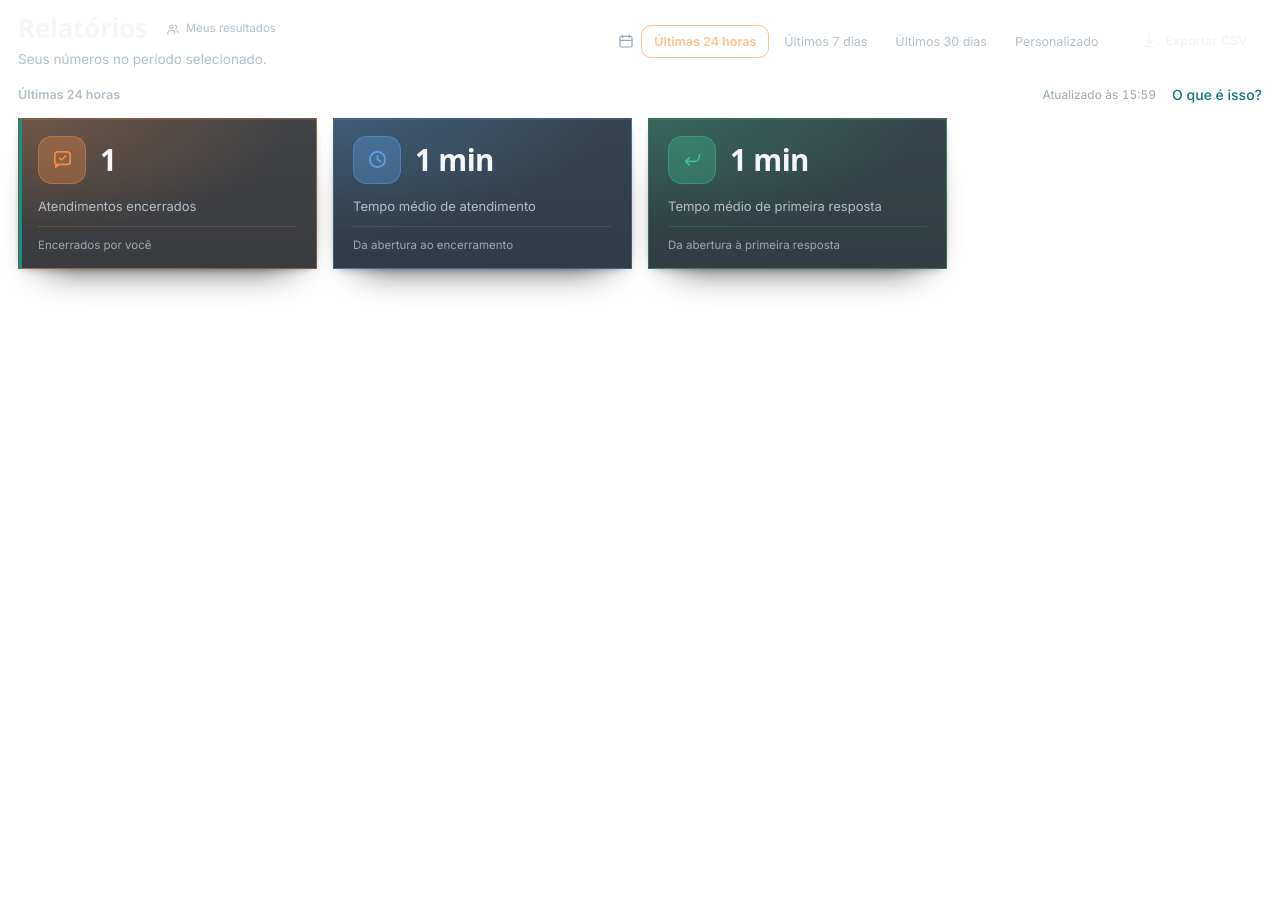
Test case: ReportsPage › o texto de ajuda explica que motivos inclui a IA mas o resto só conta atendentes
Click the button "O que é isso?". click: (1217,95)
box: 1172,85 -> 1262,105
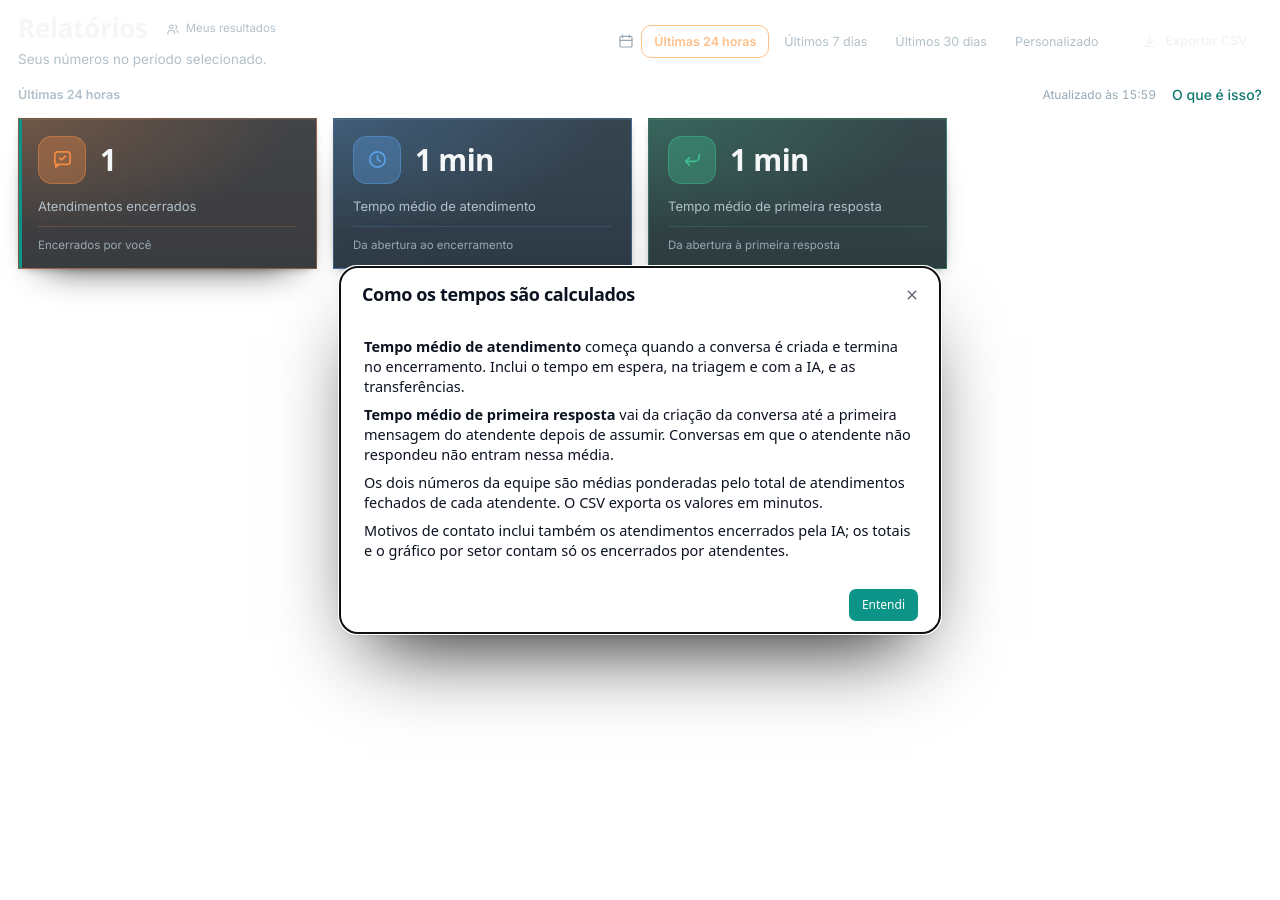
Check: the text "Motivos de contato inclui também os atendimentos encerrados pela IA" is shown, box 364,520 -> 910,560
